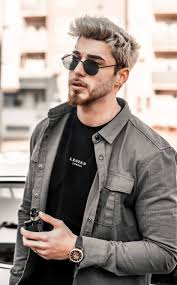g.y: (83, 58, 101, 76)
